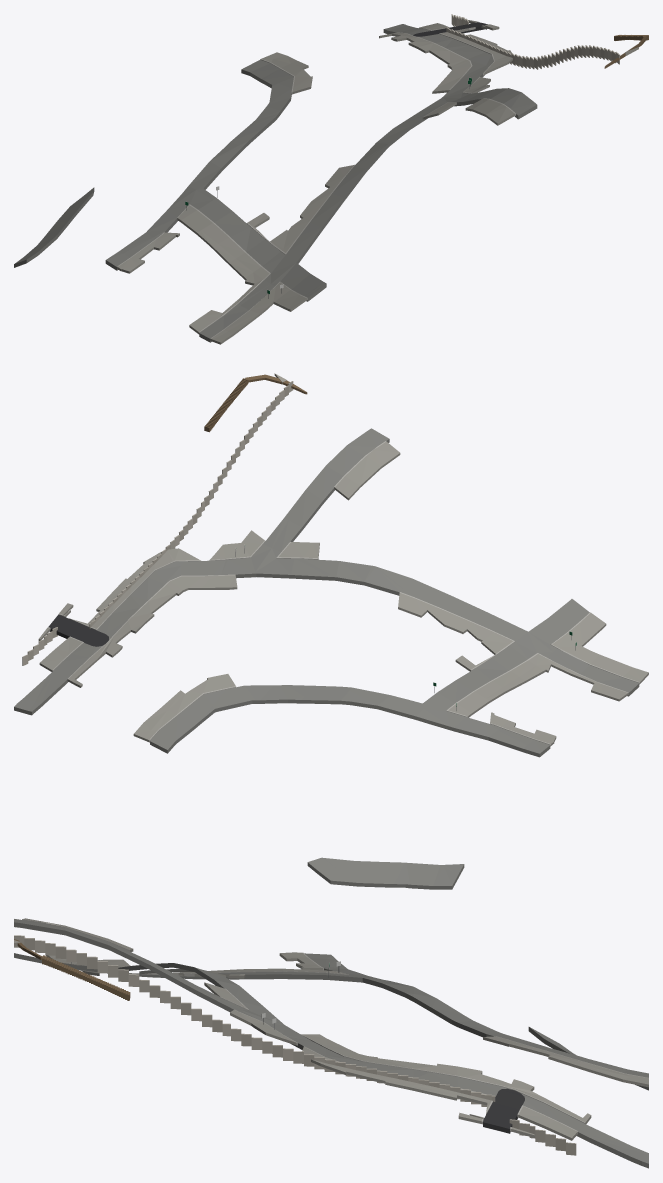
The picture shows the model from 3 angles, top to bottom: view 1: azimuth 30°, elevation 25°; view 2: azimuth 150°, elevation 25°; view 3: azimuth 270°, elevation 25°; orthographic projection. The views are drawn at different scales.
Bounding box in the file's own units: 147 × 89.14 × 146.
